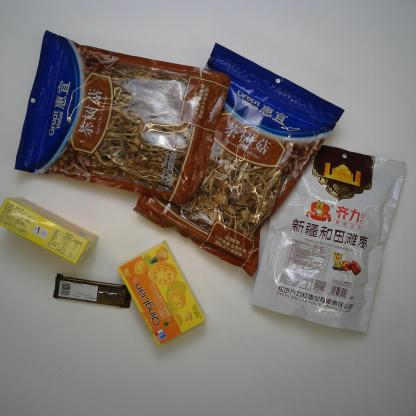Chocolate: (52, 272, 131, 310)
Dessert: (116, 239, 208, 348), (1, 195, 99, 266)
Dried Food: (130, 37, 347, 280), (13, 29, 233, 211), (250, 142, 410, 336)
